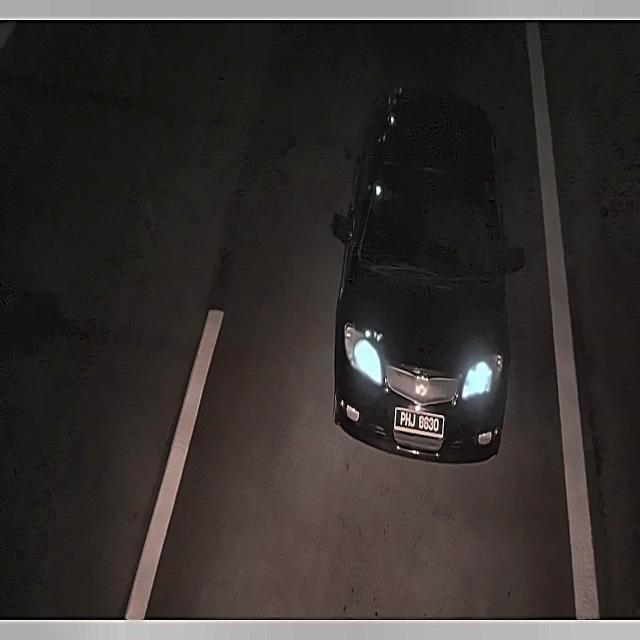car: (392, 401, 448, 444)
